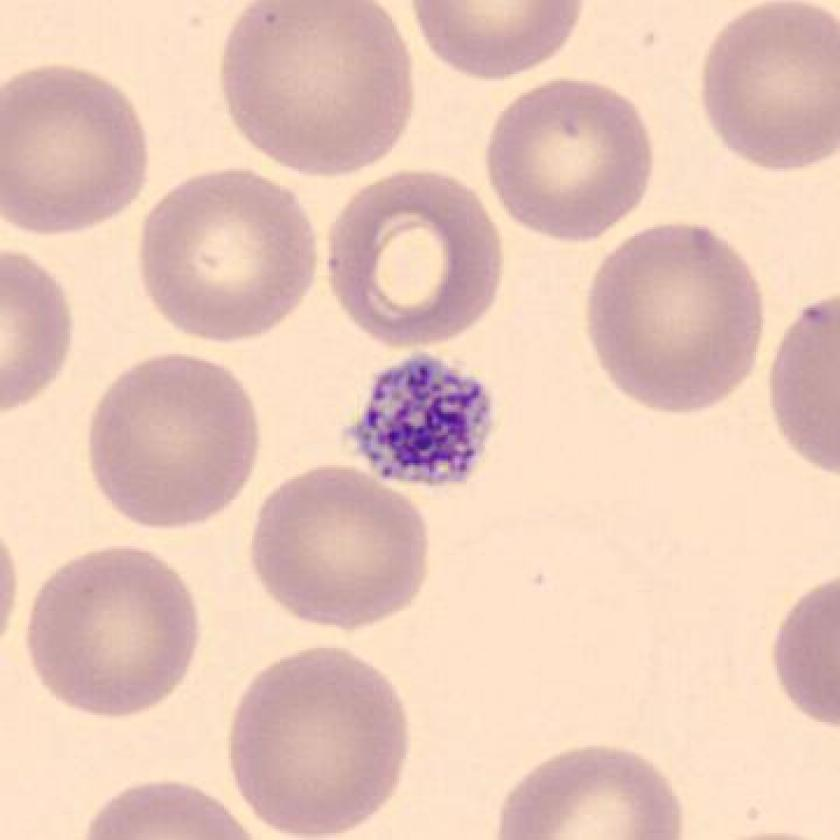platelets: (337, 341, 510, 508)
